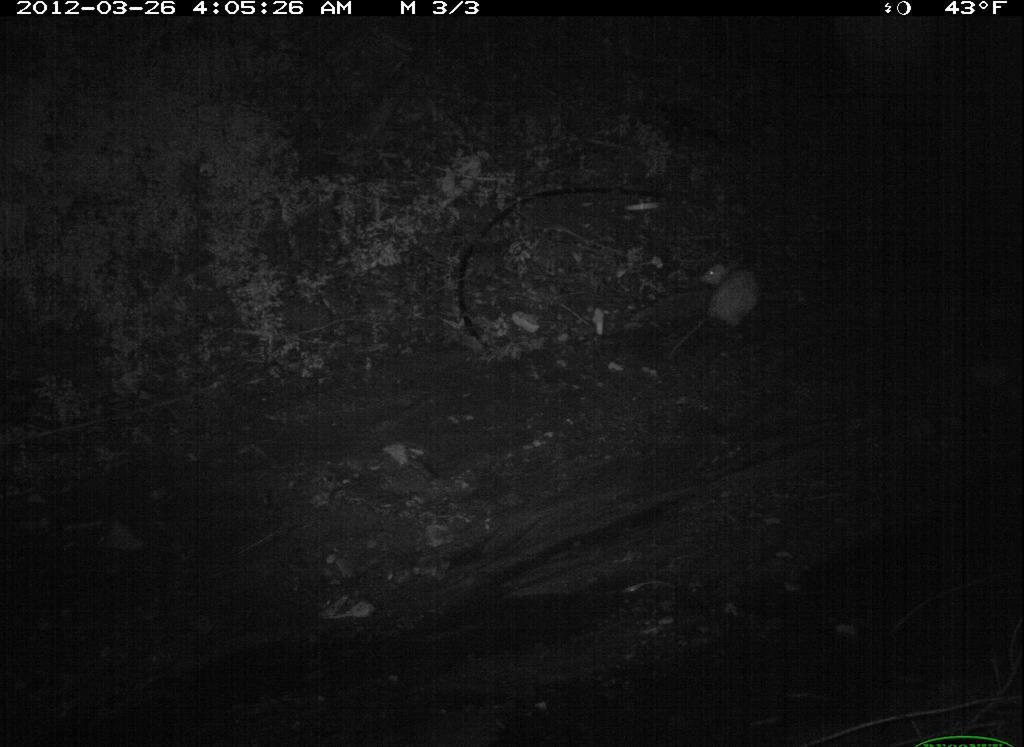opossum: (664, 244, 765, 332)
